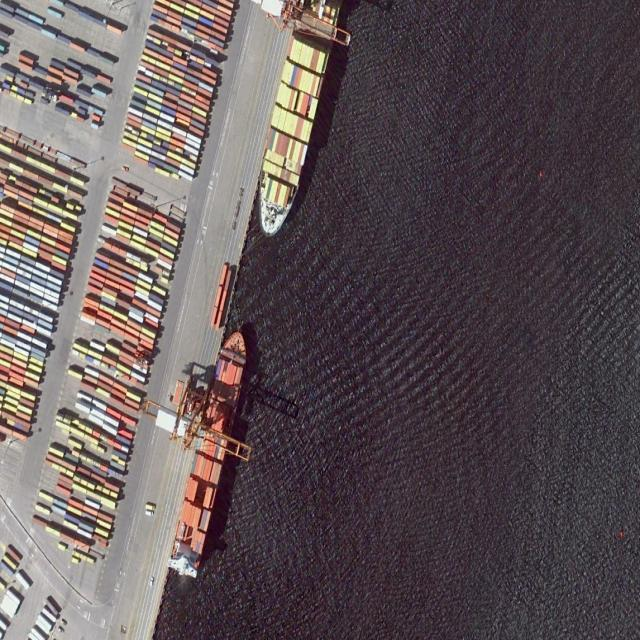Container Ship: (168, 322, 254, 582), (249, 33, 329, 242)
